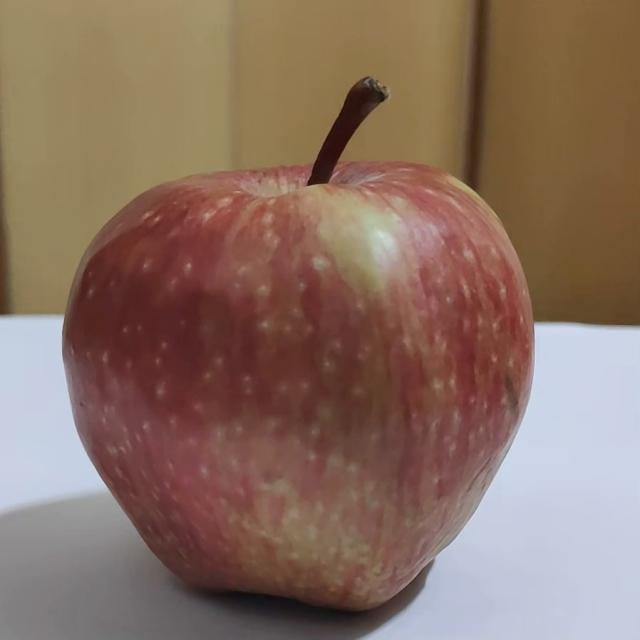apple: (51, 71, 532, 614)
